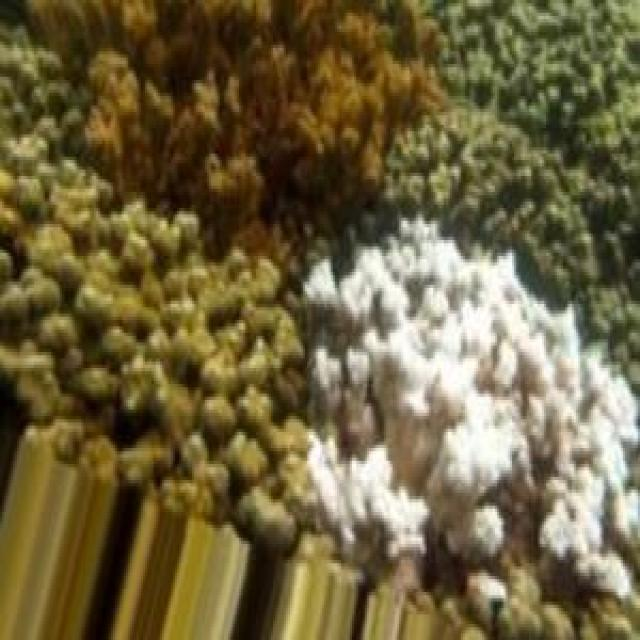Bleached: (306, 228, 639, 606)
Healthy: (1, 43, 306, 548), (27, 1, 440, 241), (387, 1, 639, 375)
